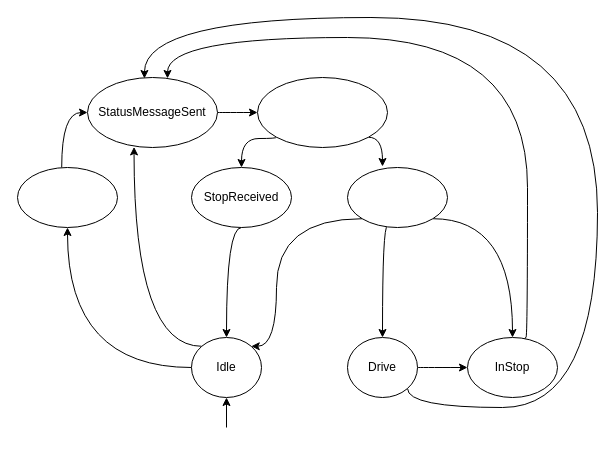
The diagram is 616 pixels wide and 453 high, and some of its shapes have lost their labels. Here are the shapes that lost their labels. From the top down, the centre of each, then its label:
point (322, 112): CommandReceived
point (67, 197): Connected
point (397, 197): StartReceived
